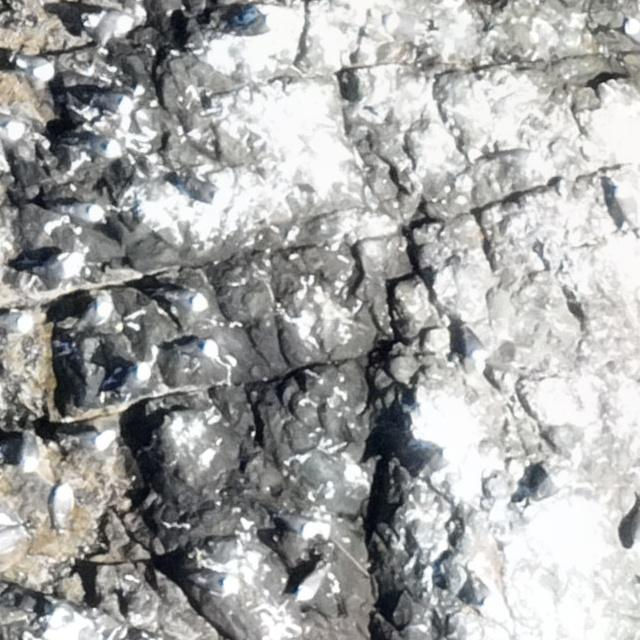umineko: (34, 252, 85, 282), (470, 569, 502, 616), (85, 10, 134, 39), (160, 284, 206, 313), (528, 470, 567, 504), (47, 482, 74, 530), (115, 364, 151, 399), (613, 184, 638, 234), (296, 567, 328, 605), (87, 90, 132, 117), (177, 336, 222, 362), (80, 137, 124, 162), (84, 300, 116, 332), (63, 199, 103, 224), (279, 512, 317, 537), (18, 55, 54, 81), (20, 429, 40, 473), (1, 310, 36, 335), (184, 182, 223, 204), (75, 433, 113, 455), (463, 325, 486, 360), (2, 112, 24, 143), (241, 18, 270, 36)
